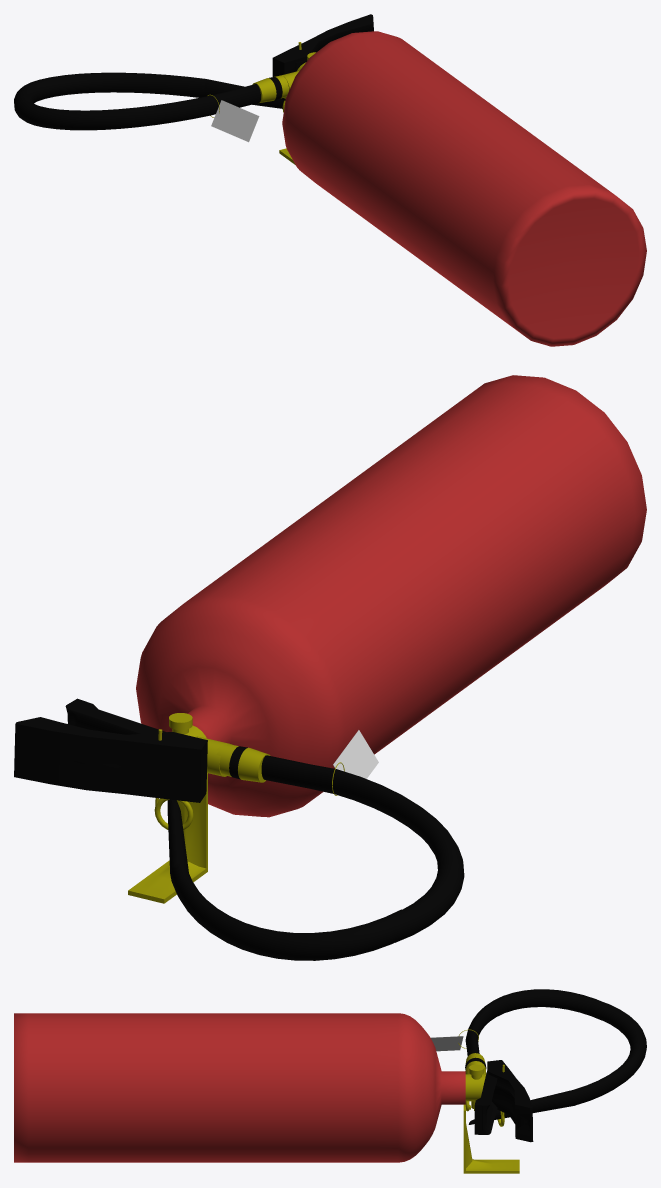
The model's file is fire extinguisher.fbx.
The picture shows the model from 3 angles, top to bottom: view 1: azimuth 30°, elevation 25°; view 2: azimuth 150°, elevation 25°; view 3: azimuth 270°, elevation 25°; orthographic projection. The views are drawn at different scales.
Visible parts, largest first — view 1: pCylinder10; view 2: pCylinder10; view 3: pCylinder10.
Part boxes in pixels (bbox=[...]): pCylinder10: bbox=[14, 14, 646, 346]; pCylinder10: bbox=[14, 375, 646, 960]; pCylinder10: bbox=[14, 989, 646, 1173].
Size of the model in its own units: 18.95 by 9.1 by 35.3.
